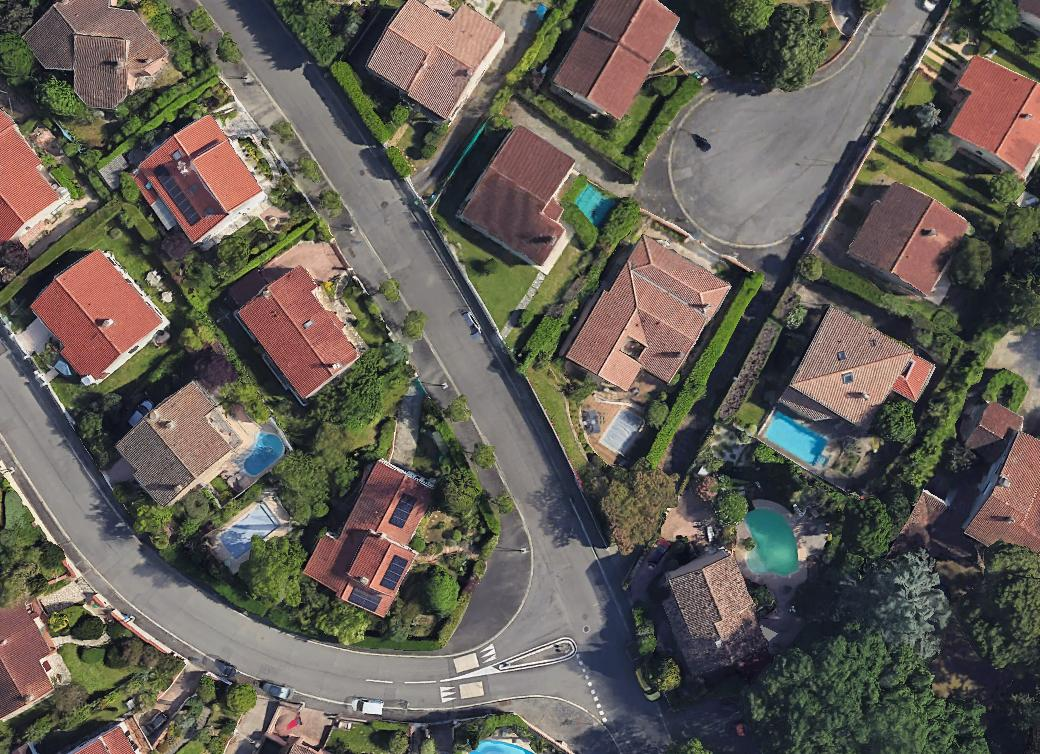maison: (564, 232, 732, 412), (774, 304, 936, 461), (300, 449, 448, 620), (124, 111, 270, 261), (20, 242, 167, 390), (899, 404, 1039, 554), (456, 121, 598, 267), (17, 0, 174, 127), (232, 261, 366, 404), (361, 0, 509, 126), (109, 378, 248, 511), (646, 544, 775, 686), (545, 0, 683, 128), (844, 174, 970, 300), (931, 53, 1040, 183), (0, 111, 61, 241), (0, 601, 55, 719), (72, 723, 137, 753)
